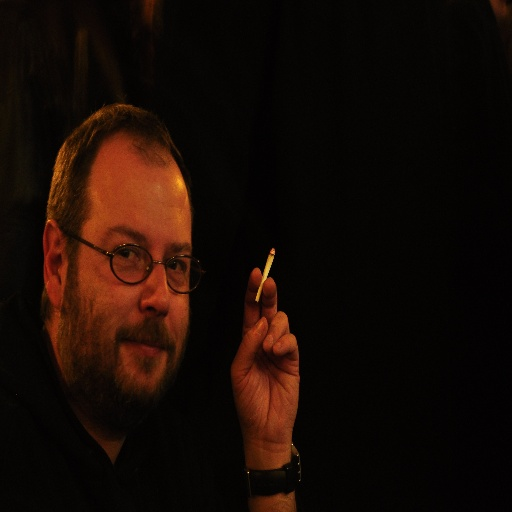hand: (232, 269, 304, 474)
